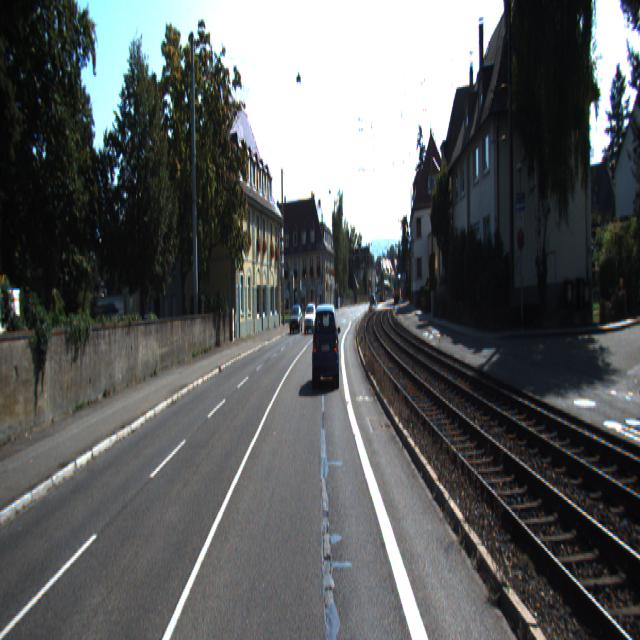Car: (311, 302, 340, 391), (304, 303, 318, 334), (290, 306, 304, 334)
